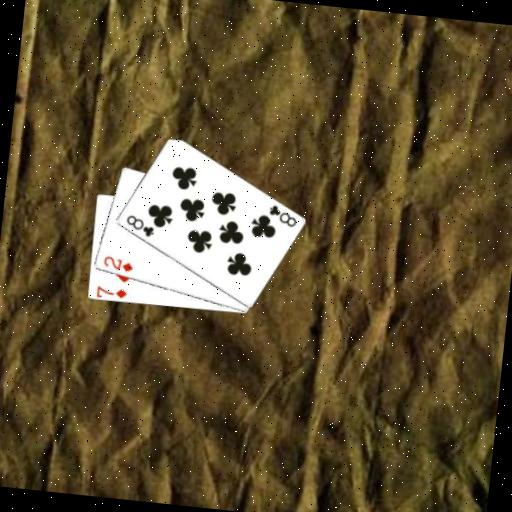2D: (100, 253, 136, 274)
7D: (93, 283, 129, 301)
8C: (122, 212, 157, 239), (265, 202, 300, 229)
